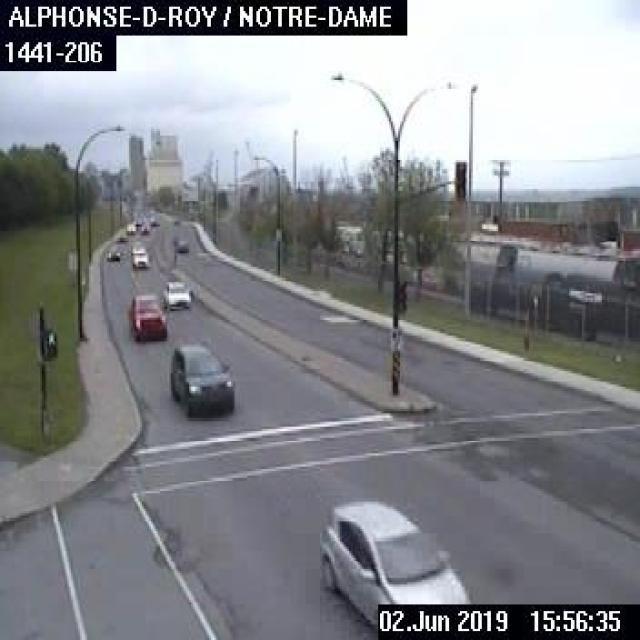vehicle: (314, 498, 474, 631), (169, 342, 233, 413), (129, 287, 166, 338), (160, 278, 190, 306), (129, 245, 151, 268), (104, 243, 122, 263), (172, 234, 189, 254)
